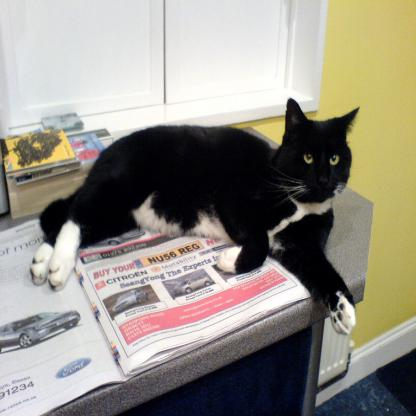cat: (36, 91, 389, 354)
